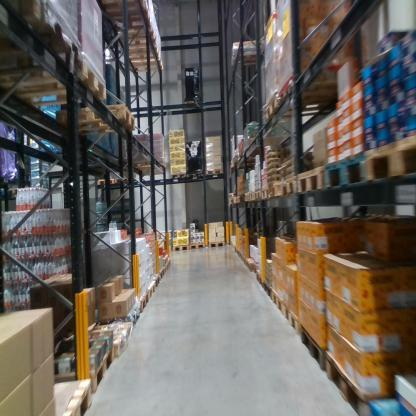pallets: (225, 136, 416, 209), (251, 272, 328, 361), (62, 341, 118, 416), (126, 258, 171, 328), (325, 354, 376, 415), (63, 54, 114, 101), (68, 106, 139, 136), (168, 241, 228, 256)
